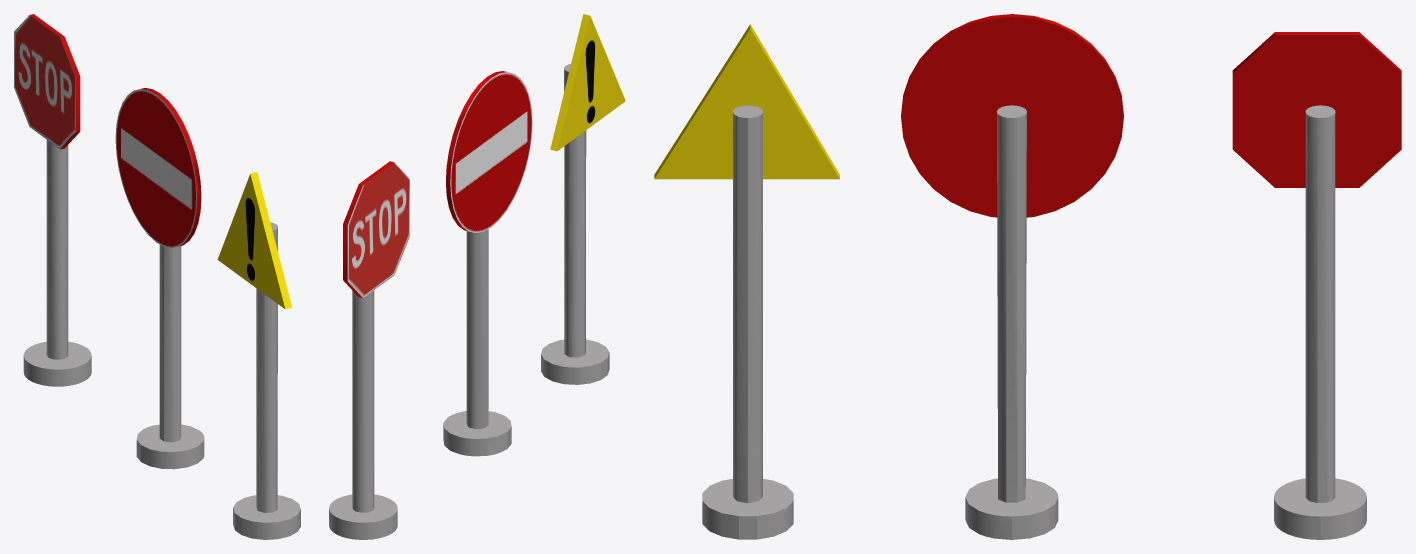
The model's file is carteles.fbx.
The picture shows the model from 3 angles, left to right: view 1: azimuth 30°, elevation 25°; view 2: azimuth 150°, elevation 25°; view 3: azimuth 270°, elevation 25°; orthographic projection. The views are drawn at different scales.
Visible parts, largest first — view 1: Cilindro.001, Stop, w; view 2: Cilindro.001, Stop, w; view 3: Cilindro.001, Stop, w.
Part boxes in pixels (left/top/right/bottom): Cilindro.001: left=115, top=88, right=204, bottom=469; Stop: left=14, top=14, right=91, bottom=386; w: left=217, top=172, right=300, bottom=539; Cilindro.001: left=443, top=71, right=532, bottom=456; Stop: left=329, top=161, right=409, bottom=539; w: left=541, top=14, right=625, bottom=384; Cilindro.001: left=901, top=14, right=1123, bottom=539; Stop: left=1232, top=32, right=1401, bottom=539; w: left=654, top=24, right=839, bottom=539.
Size of the model in its own units: 44.04 by 354 by 260.
Materials: 1 (1 with a texture image).
